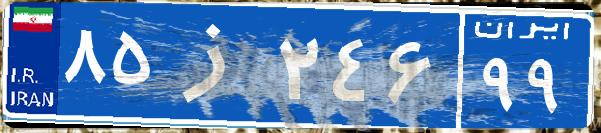2: (273, 28, 330, 110)
4: (330, 28, 385, 110)
5: (110, 28, 158, 105)
6: (385, 28, 445, 110)
8: (57, 26, 110, 107)
9: (475, 38, 525, 113), (525, 38, 570, 115)
ز: (158, 15, 273, 115)
